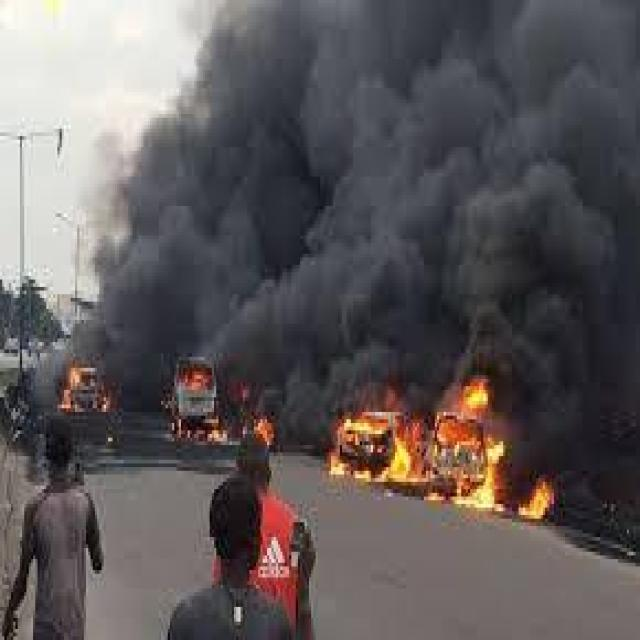fire: (328, 365, 507, 511), (53, 354, 108, 415), (510, 463, 555, 521), (172, 412, 231, 444), (179, 363, 210, 390), (248, 414, 272, 442)
smoke: (80, 6, 634, 377)
